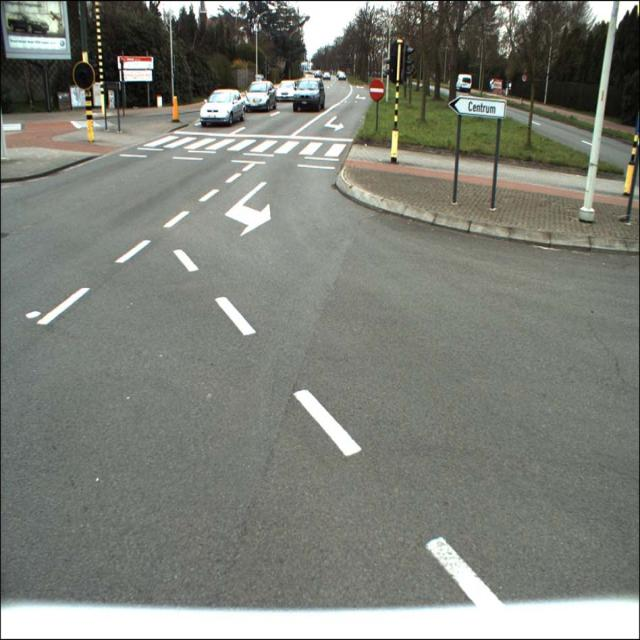girisyok: (370, 78, 385, 102)
